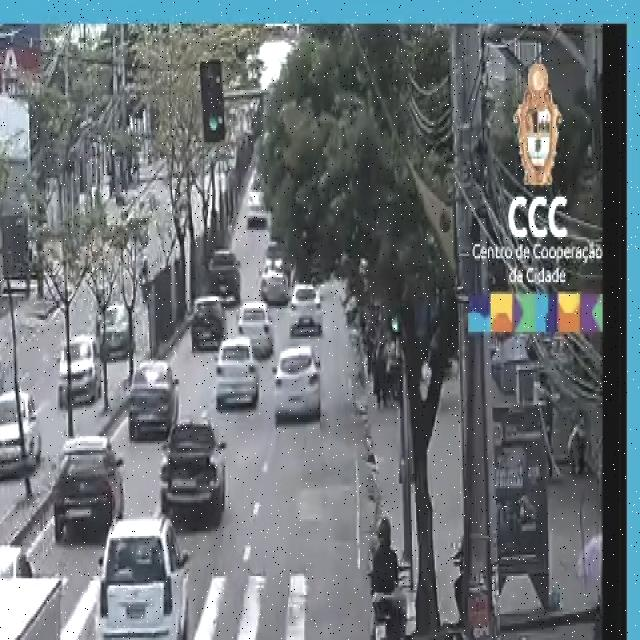biker: (363, 505, 416, 640)
car: (93, 498, 191, 640), (51, 429, 124, 536), (160, 420, 224, 534), (270, 338, 326, 442), (53, 330, 107, 415), (127, 354, 177, 439), (0, 389, 40, 488), (213, 330, 260, 413)
truck: (0, 573, 72, 640)
